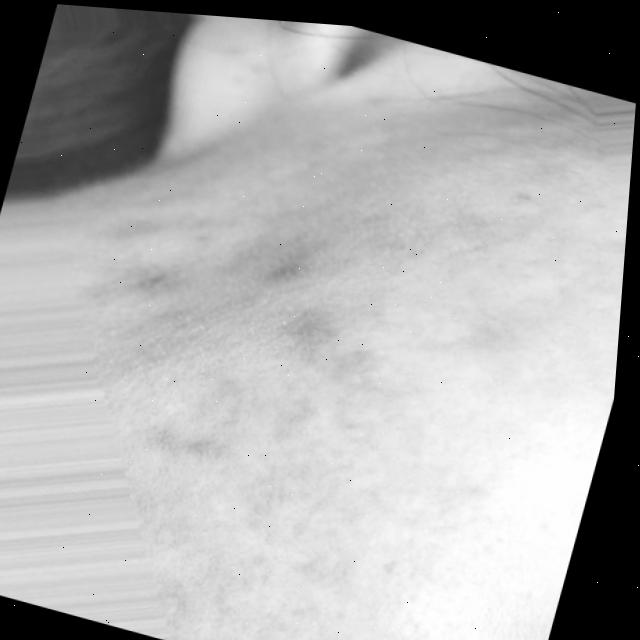Rosacea: (135, 213, 378, 491)
